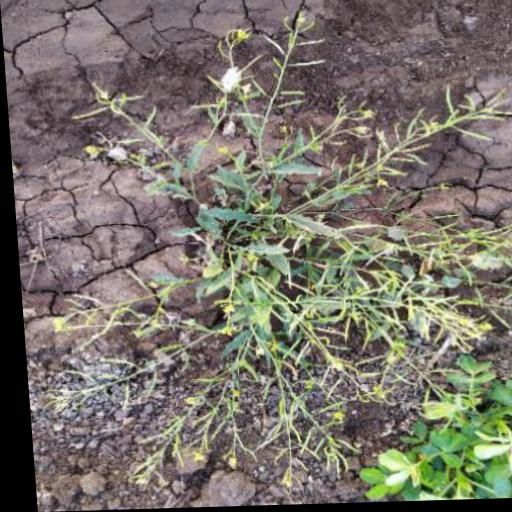weed: (15, 13, 512, 385), (329, 375, 512, 504)
